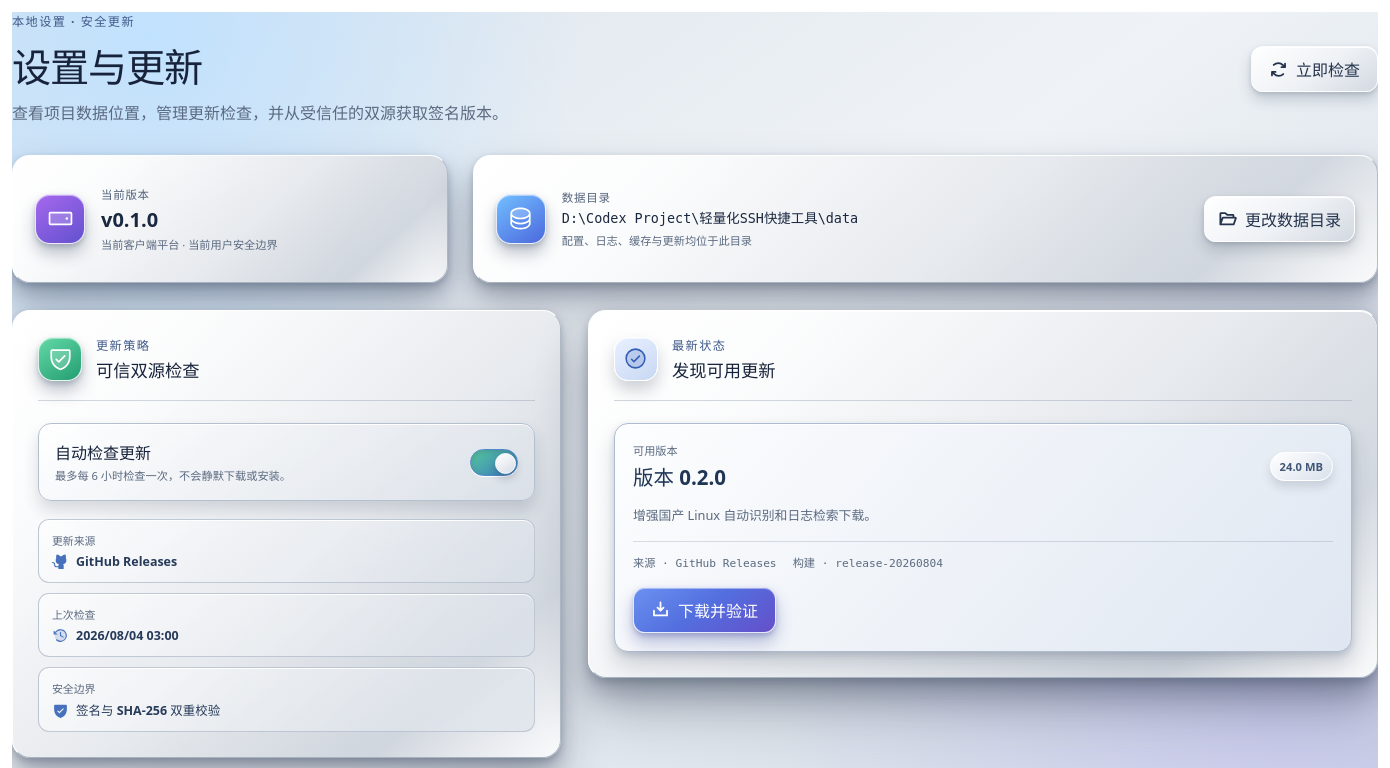
Scenario: SettingsPage › blocks rejected downloads and offers cleanup: 更新签名验证失败
The width and height of the screenshot is (1390, 768).
Click the button "下载并验证": (704, 610) [633, 587, 776, 633]
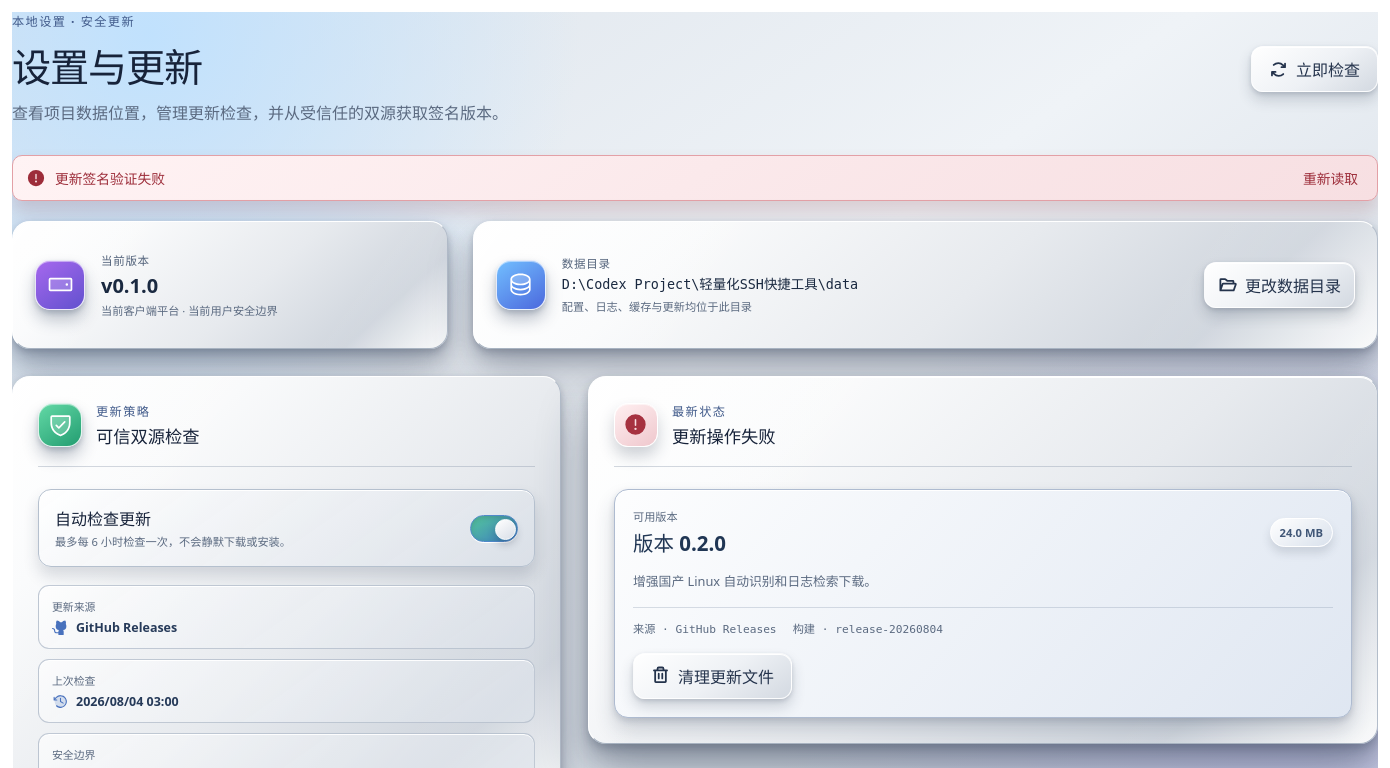
Check: the text "更新签名验证失败" is shown, box [55, 168, 165, 188]
Check: the button "清理更新文件" is shown, box [633, 653, 792, 699]
